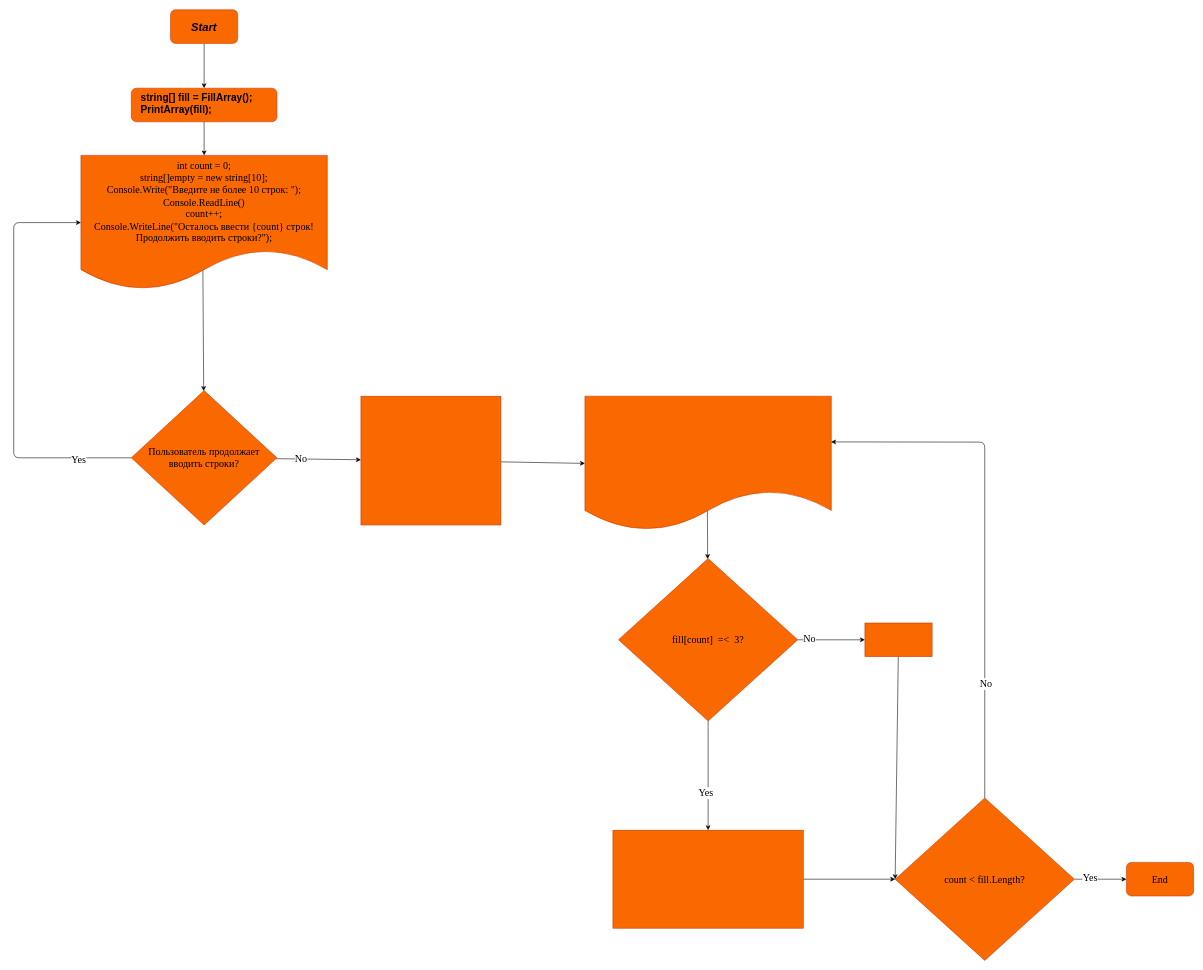
Some shapes in this 1203 by 970 pixel diagram are drawn without their labels. Here are the shapes that lost their labels. From the top down, the centre of each, then its label:
(x=430, y=460): string[]fill = FillArray();
(x=707, y=463): PrintArray(string[]fill){}
(x=898, y=639): count ++;
(x=707, y=879): Console.Write($"fill[count]"); count ++;
